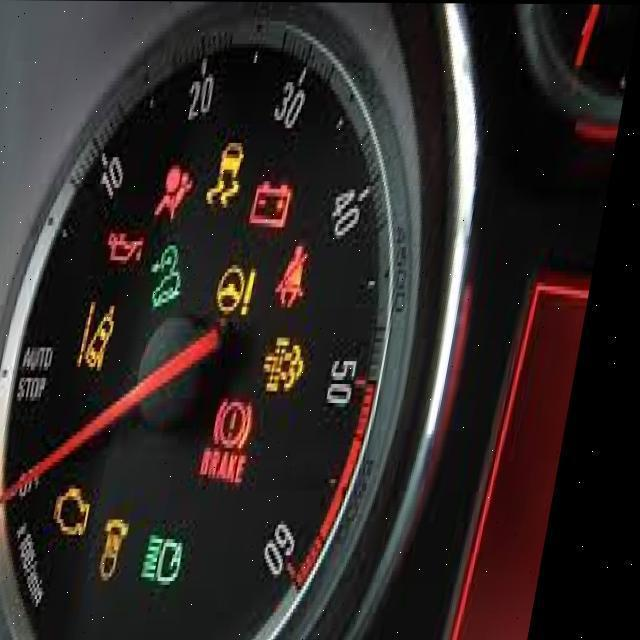Electronic Power Steering Warning: (215, 267, 258, 315)
Seat Belt: (276, 244, 306, 308)
